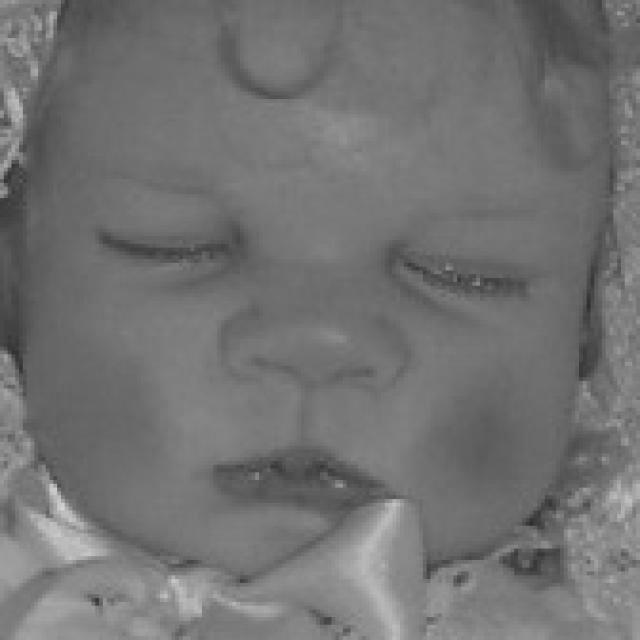real: (11, 0, 578, 590), (75, 188, 562, 302)
